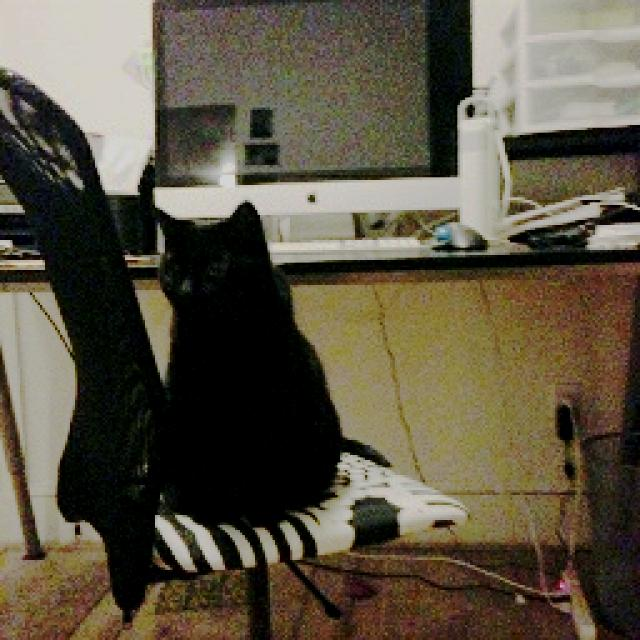cat: (129, 166, 399, 570)
